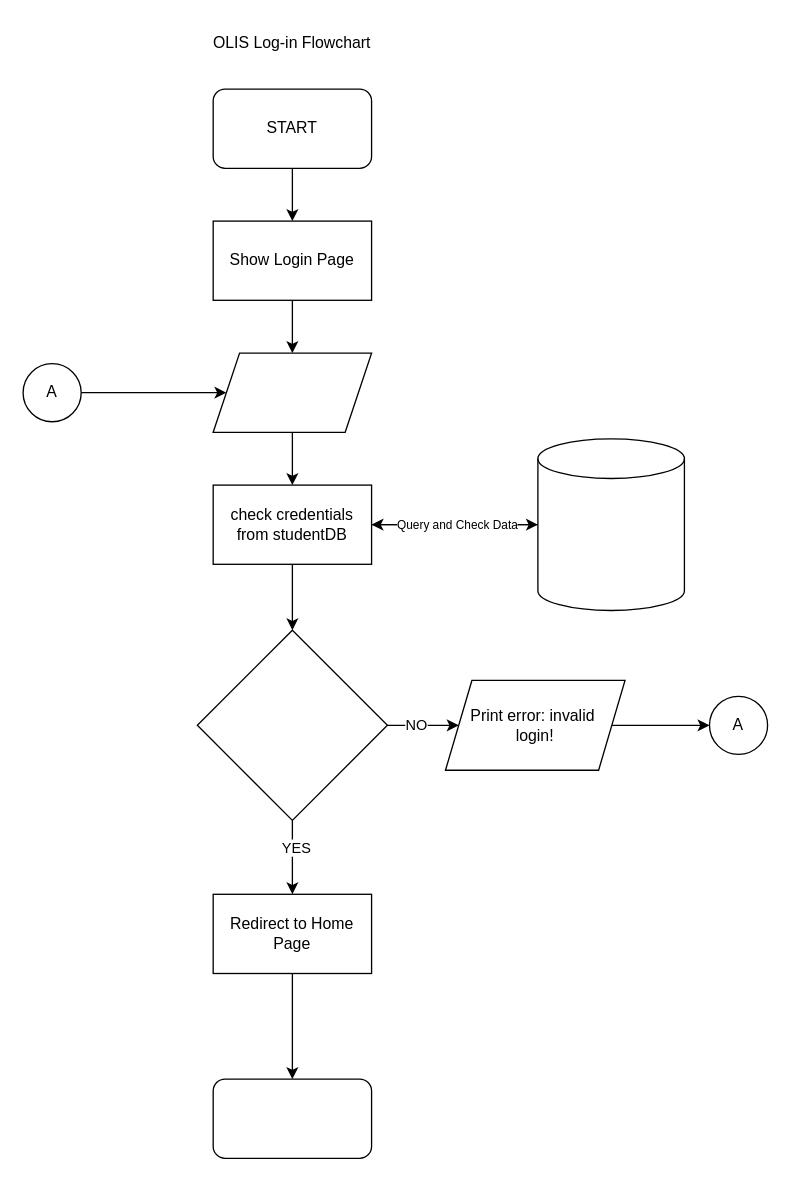
Image size: 791x1181. Some labels were removed from this diagram. Here are the shapes that lost their labels. From the top down, the box of each, then its label:
(212, 352, 372, 432): input email input password
(537, 438, 684, 610): Student DB via supabase db
(196, 629, 387, 820): Is credentials in DB?
(212, 1078, 372, 1158): END
